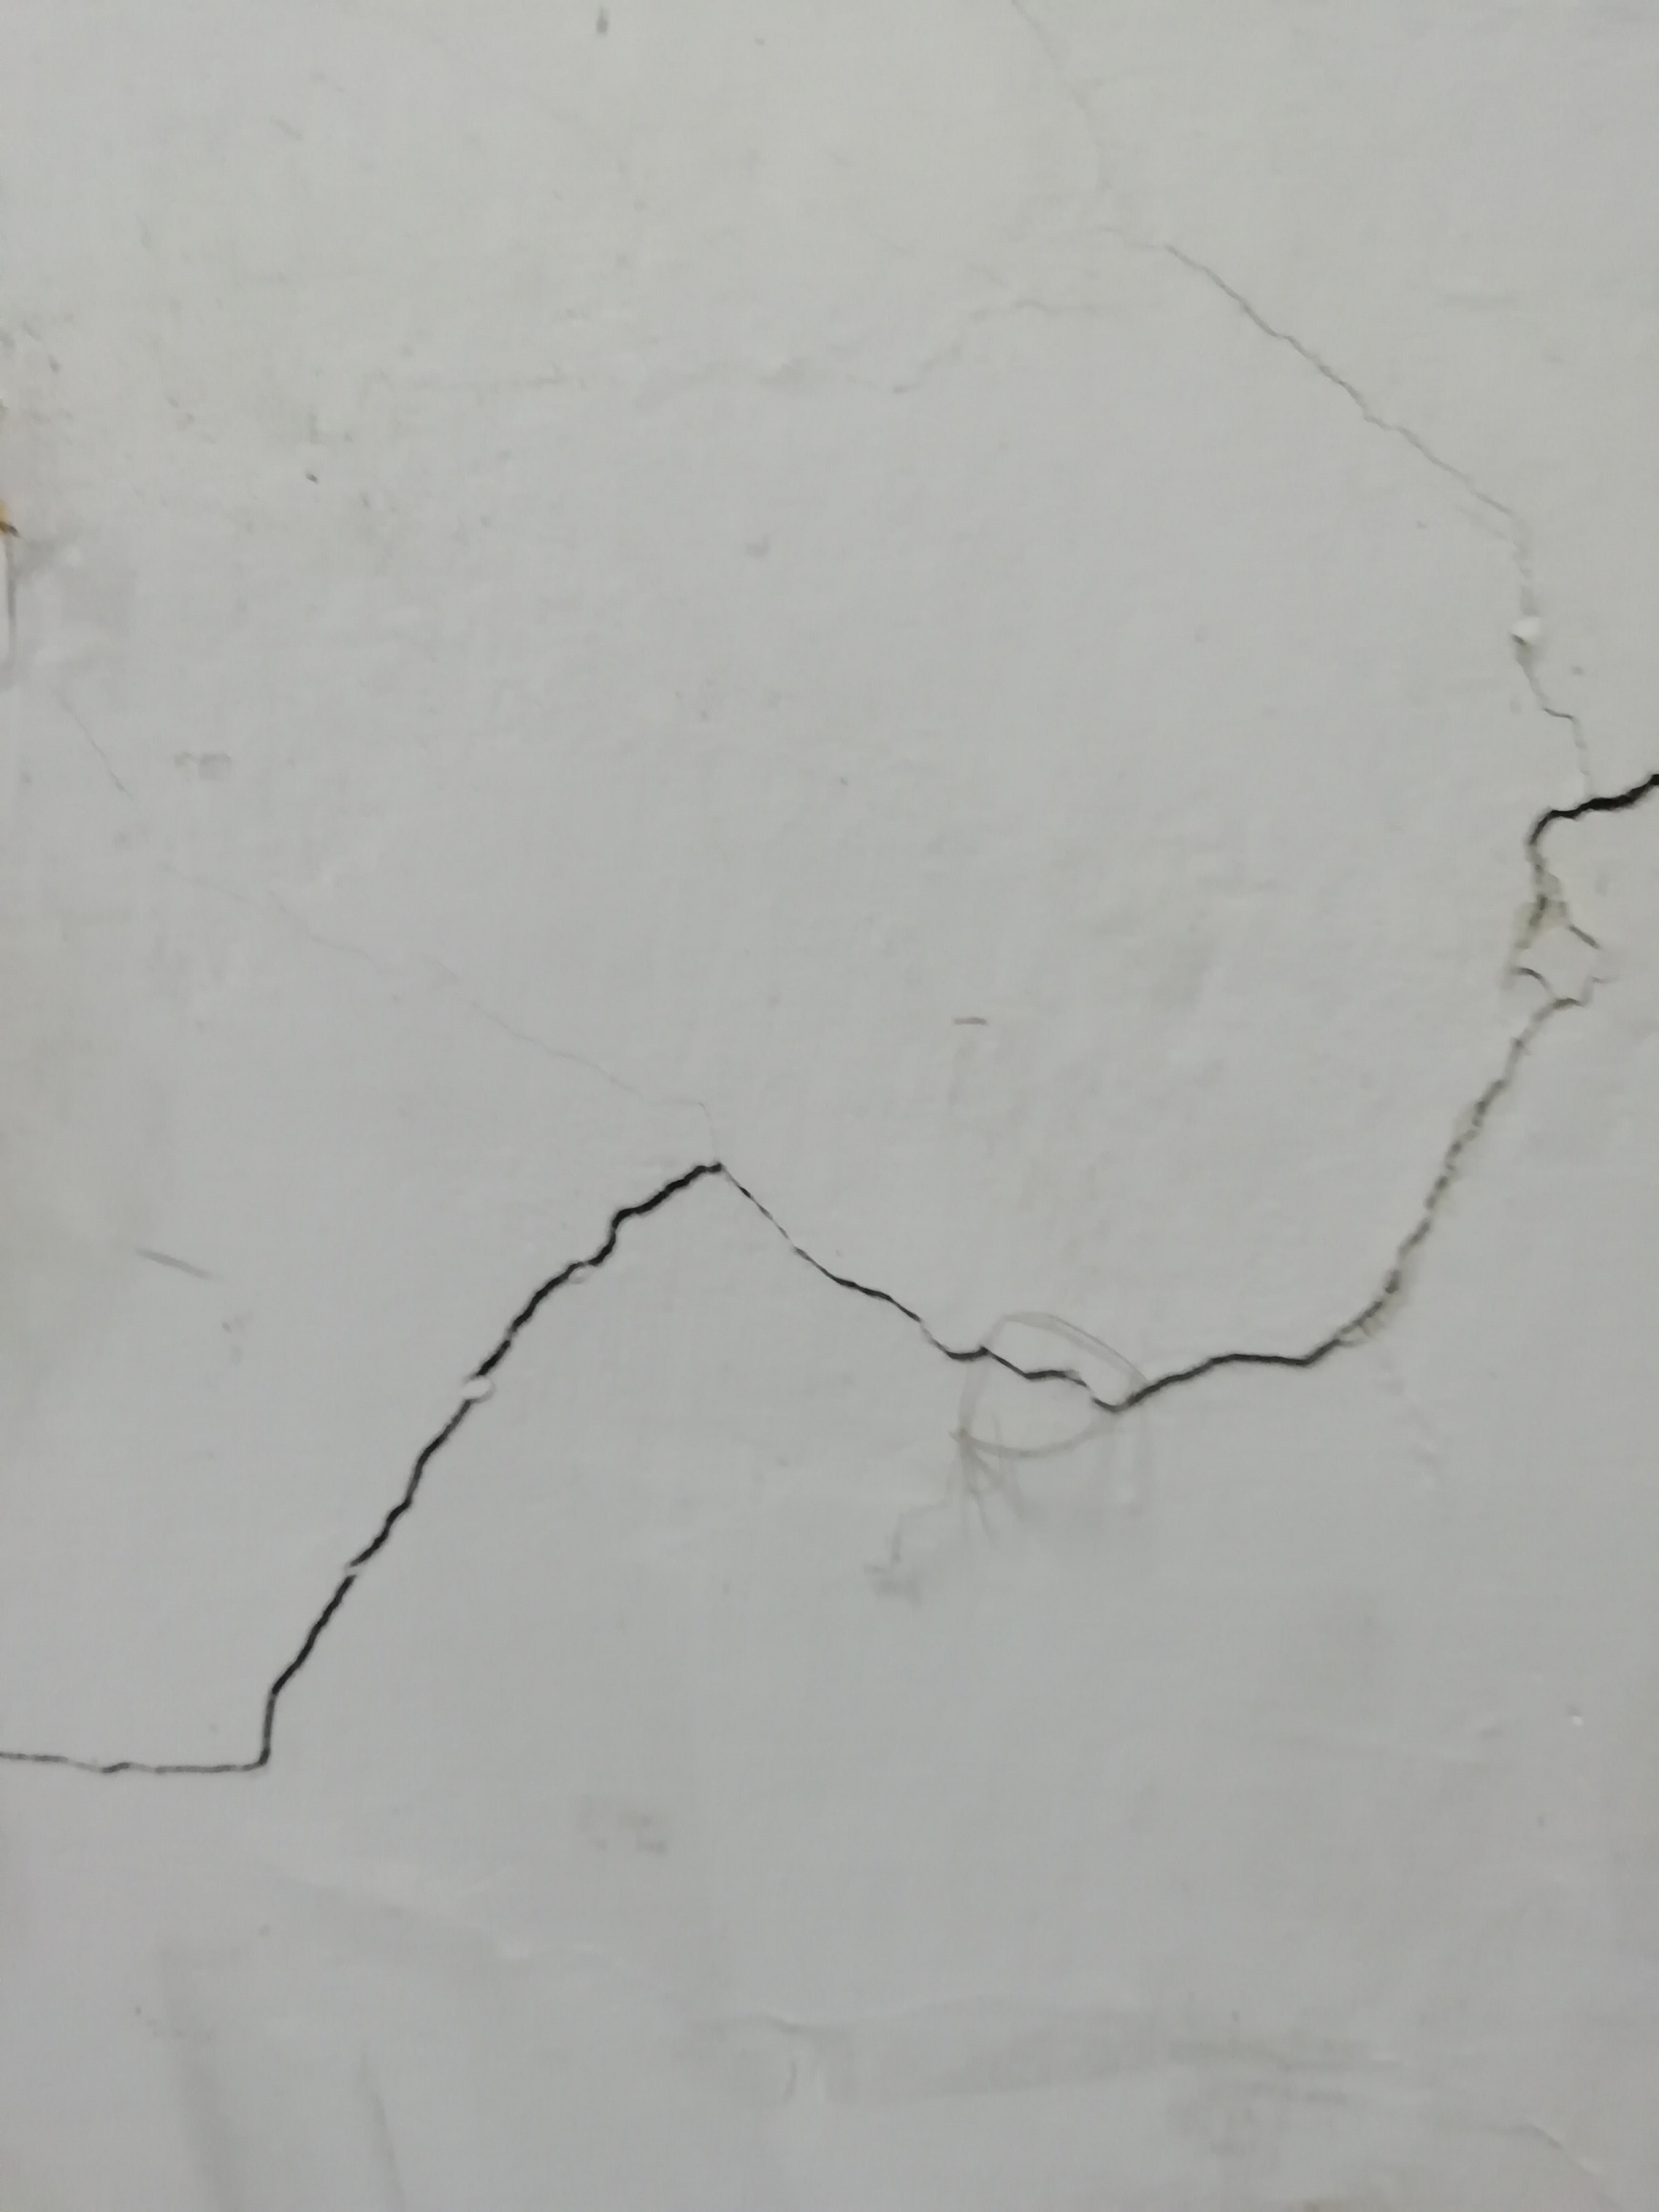Crack: (244, 1148, 741, 1707), (739, 1103, 1432, 1430), (3, 1696, 340, 1824), (1495, 693, 1659, 871)
